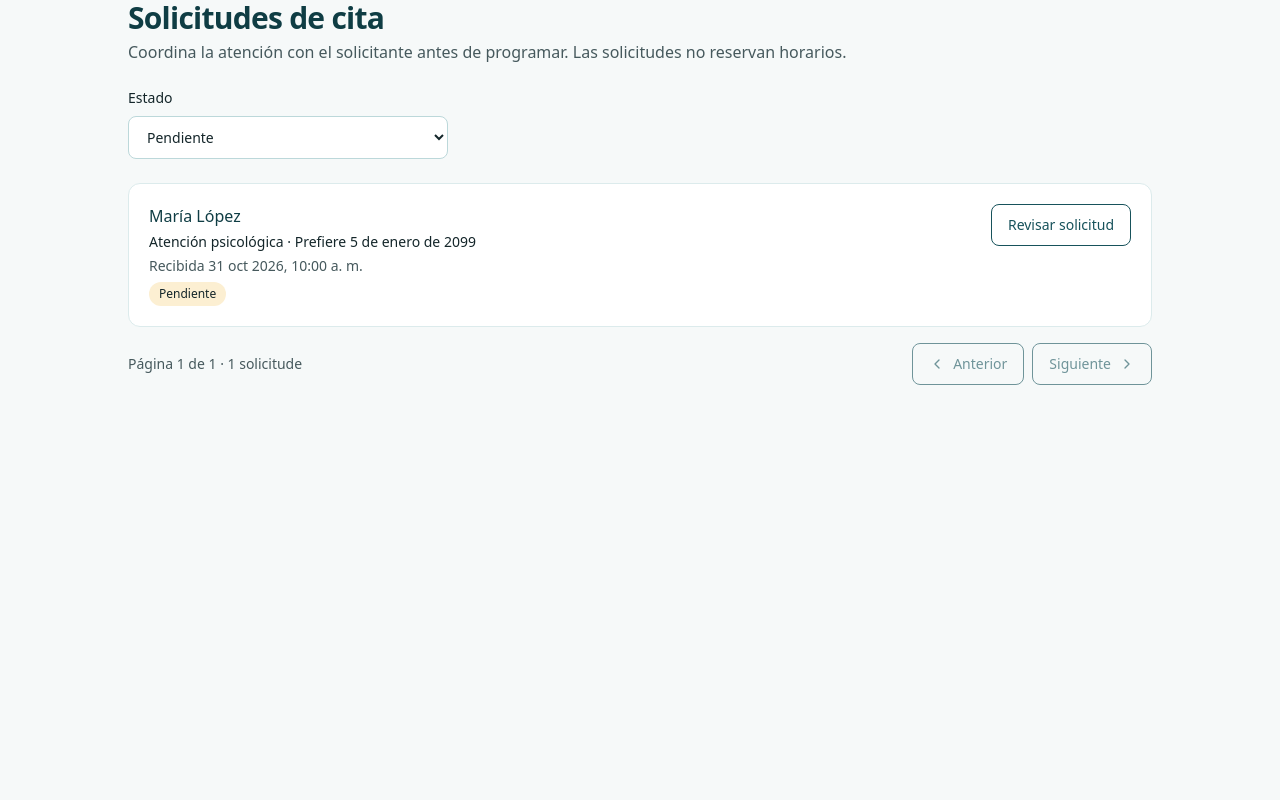
Solicitudes administrativas › rechaza con motivo y muestra el estado final sin acciones de conversion
Click the button with aria-label "Revisar solicitud de María López" at x=1061, y=225, box [991, 204, 1131, 246]
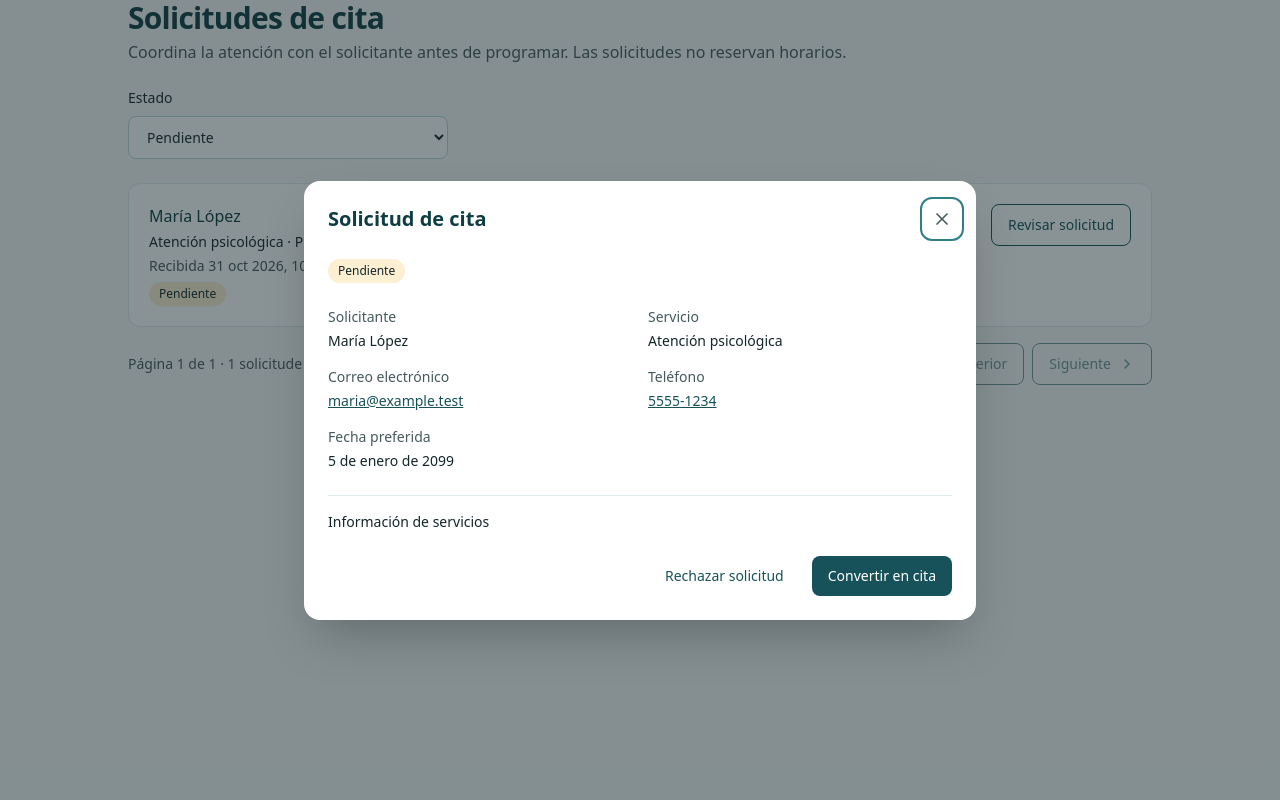
Click the button "Rechazar solicitud" at x=724, y=576, box [649, 556, 800, 596]
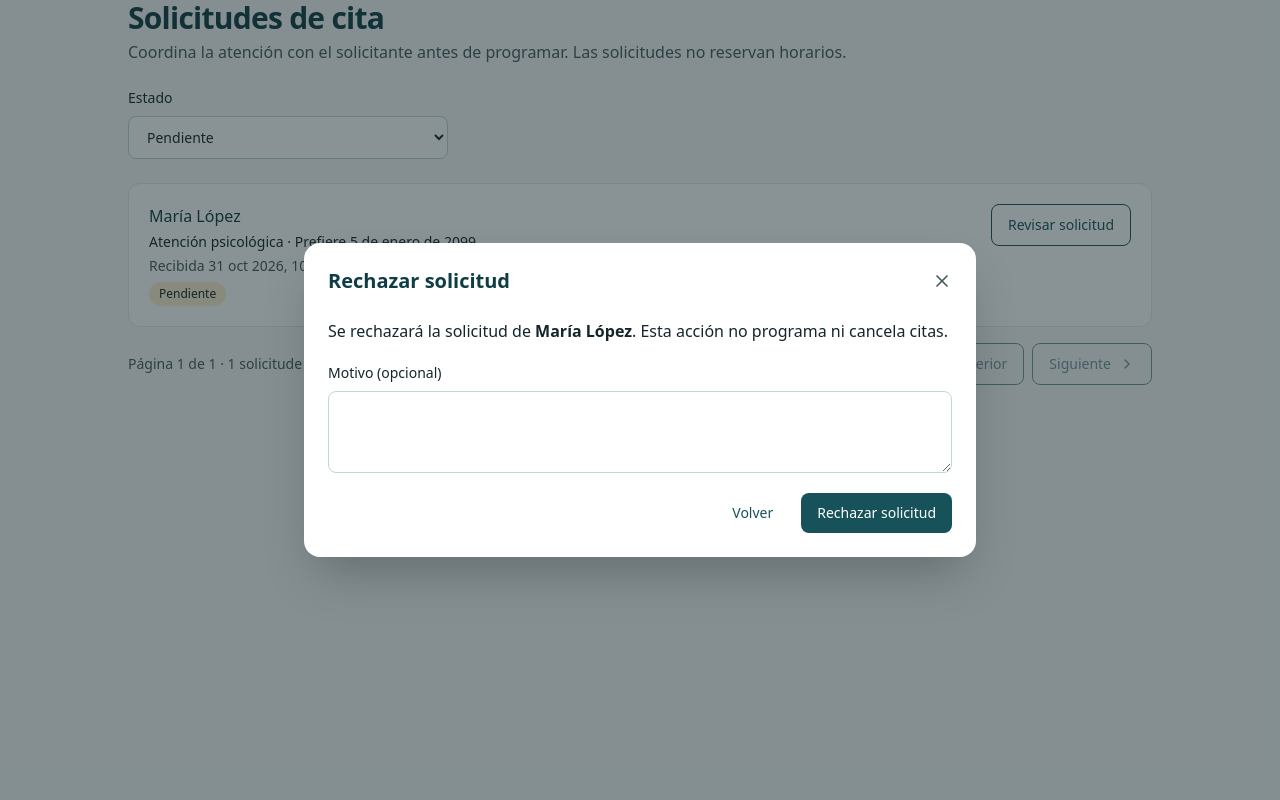
Type "El solicitante desistió" into the text box labelled "Motivo (opcional)" at x=640, y=432, box [328, 391, 952, 473]
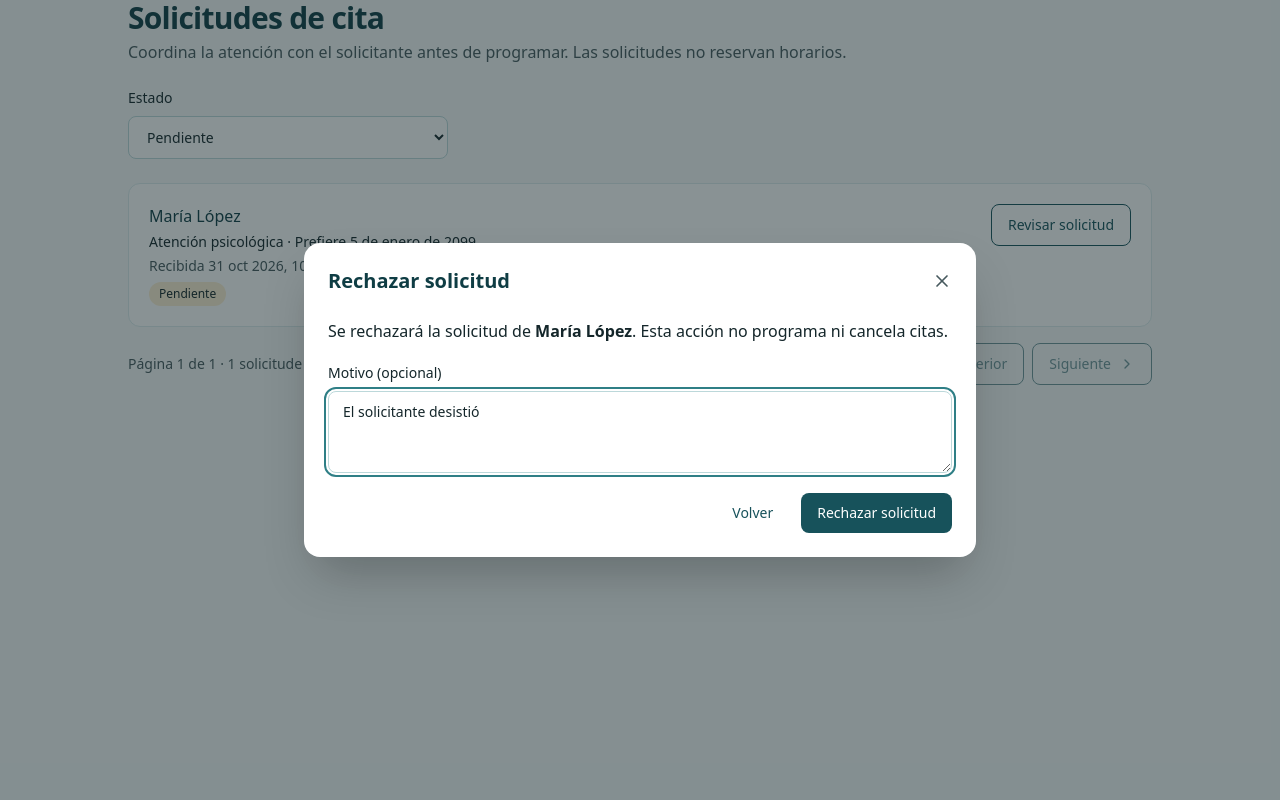
Click the button "Rechazar solicitud" at x=877, y=513, box [801, 493, 952, 533]
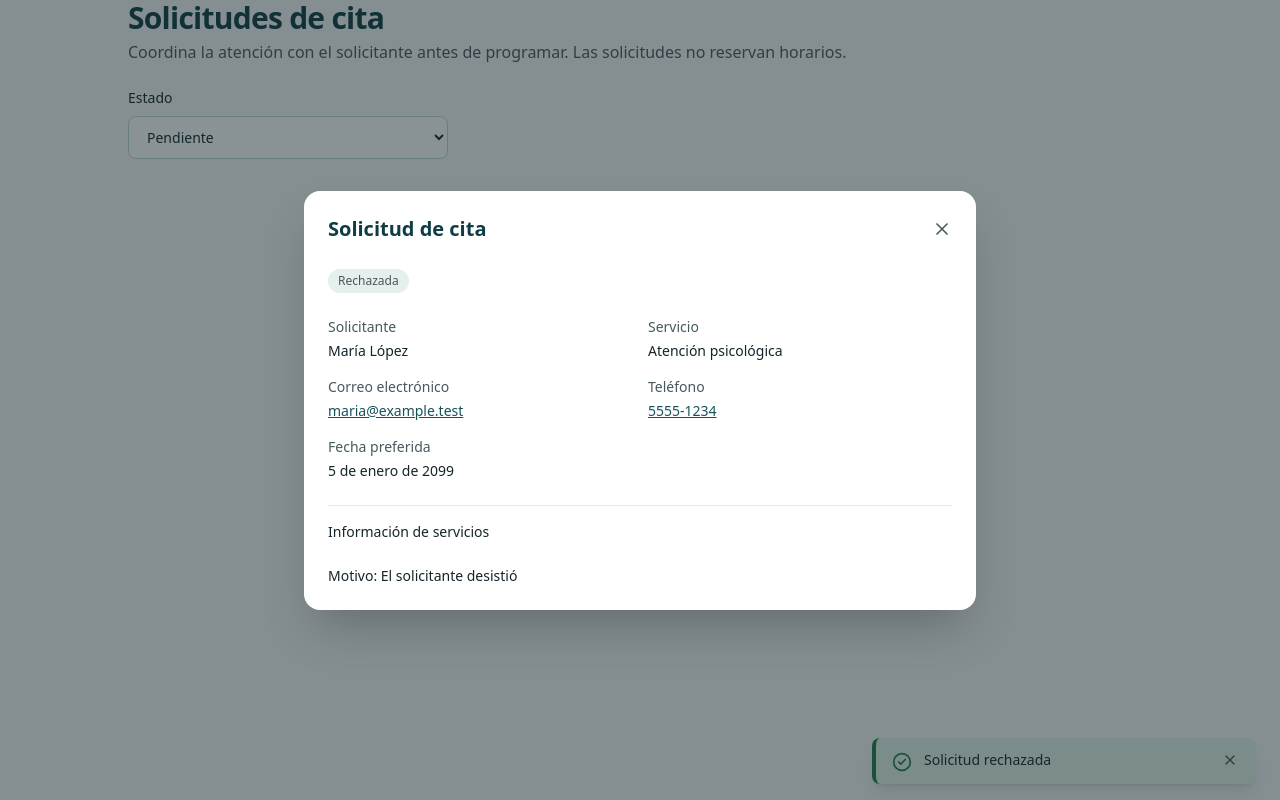
Expected: the button "Convertir en cita" is not shown
Now the text "Motivo: El solicitante desistió" is shown, box [328, 566, 517, 584]
